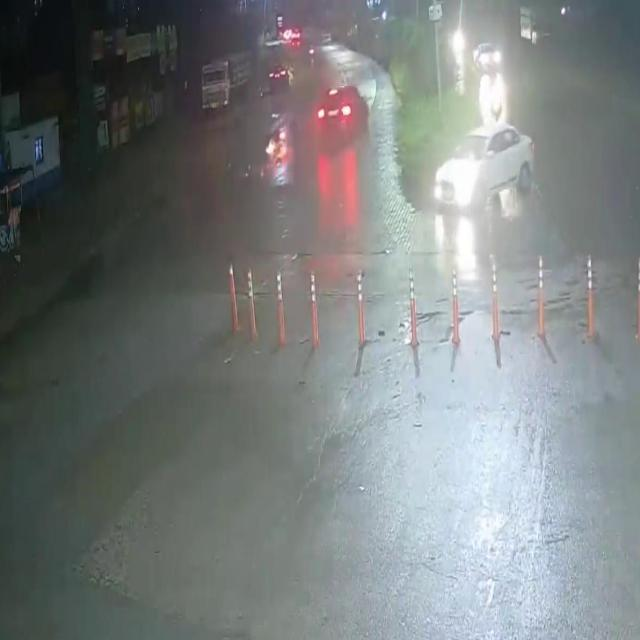accident: (247, 111, 301, 185)
